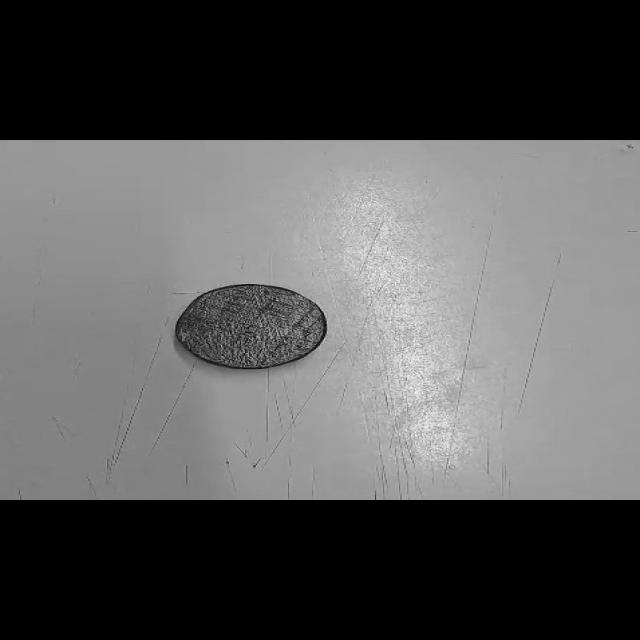rcircle: (174, 282, 329, 370)
